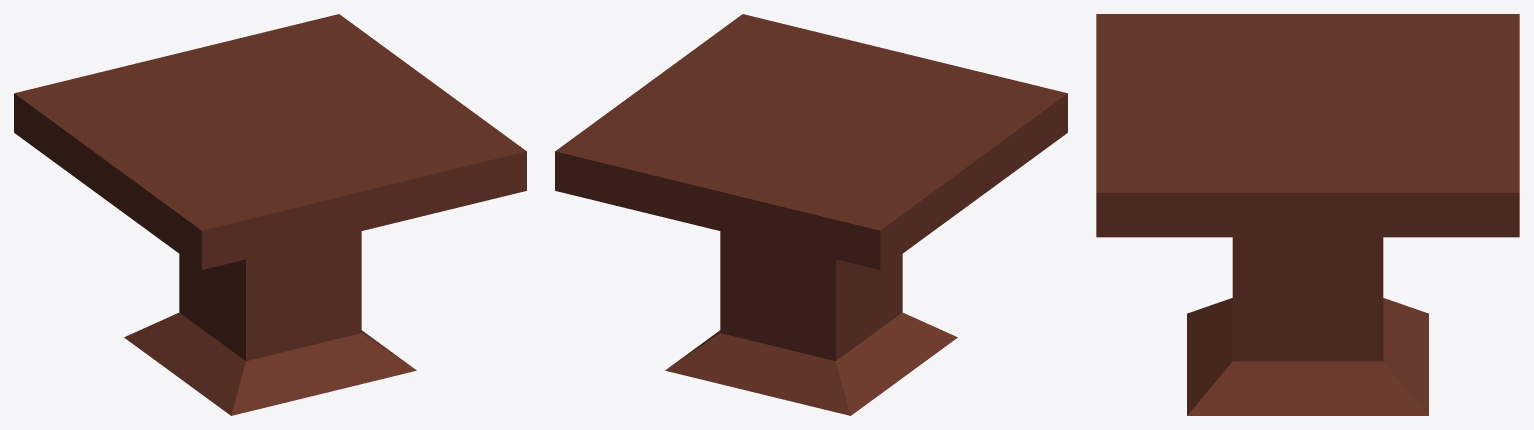
Rendered from table.glb.
3 renders of one model, left to right at view 1: azimuth 30°, elevation 25°; view 2: azimuth 150°, elevation 25°; view 3: azimuth 270°, elevation 25°, orthographic. The views are drawn at different scales.
Visible parts, largest first — view 1: Cube; view 2: Cube; view 3: Cube.
Boxes of the visible parts, x1=… form: Cube: x1=14, y1=14, x2=526, y2=415; Cube: x1=555, y1=14, x2=1067, y2=415; Cube: x1=1096, y1=14, x2=1519, y2=415.
Size of the model in its own units: 2 by 1.36 by 2.
